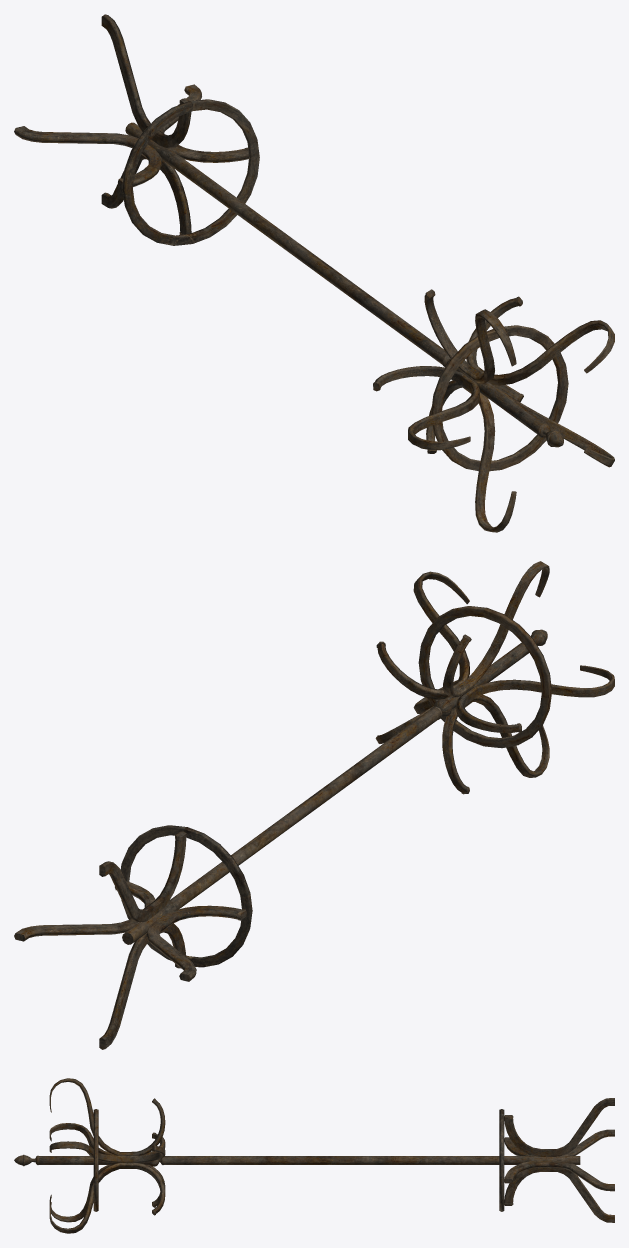
The model's file is SM_Hanger.fbx.
3 views of the same model, one above another, from view 1: azimuth 30°, elevation 25°; view 2: azimuth 150°, elevation 25°; view 3: azimuth 270°, elevation 25° (orthographic). The views are drawn at different scales.
Visible parts, largest first — view 1: SM_Hanger; view 2: SM_Hanger; view 3: SM_Hanger.
Boxes of the visible parts, x1=… form: SM_Hanger: x1=14, y1=14, x2=614, y2=532; SM_Hanger: x1=14, y1=561, x2=614, y2=1049; SM_Hanger: x1=14, y1=1078, x2=614, y2=1233.
Size of the model in its own units: 0.5033 by 0.5264 by 2.
